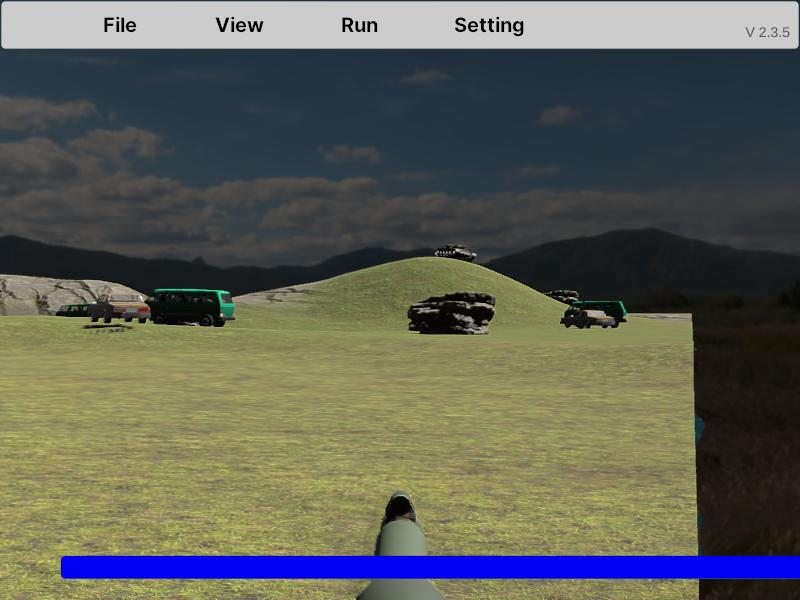car: (146, 288, 235, 328), (87, 295, 150, 324), (560, 310, 616, 329)
